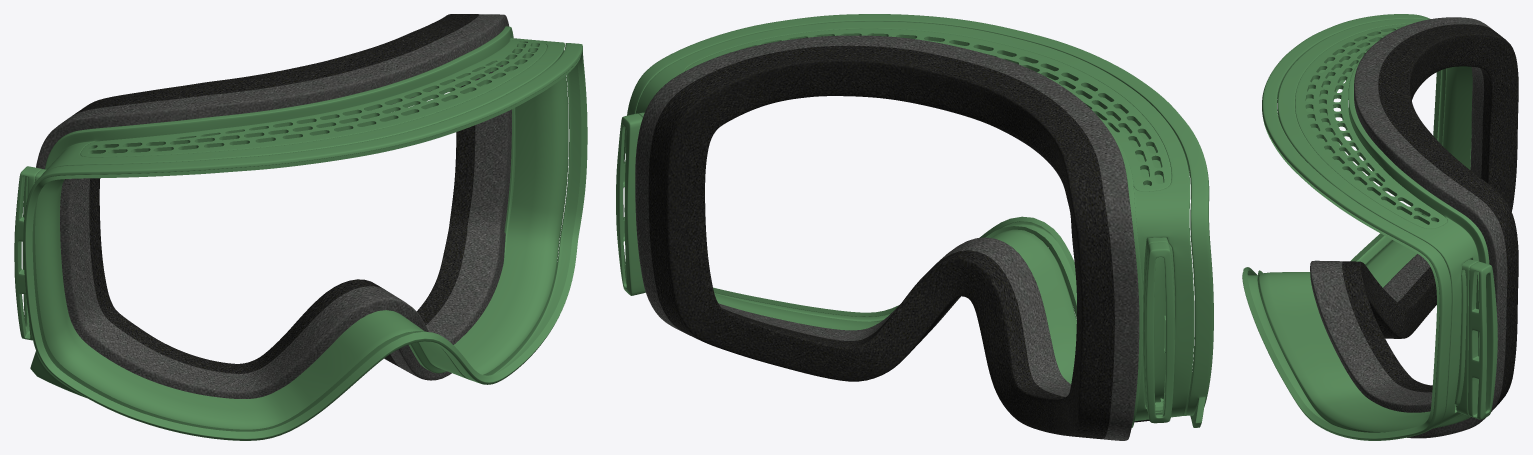
The model's file is FRAME_XPR_MOEX028_002.glb.
3 renders of one model, left to right at view 1: azimuth 30°, elevation 25°; view 2: azimuth 150°, elevation 25°; view 3: azimuth 270°, elevation 25°, orthographic. The views are drawn at different scales.
Parts seen in each view (by area): view 1: Full_rim_geometry, Frame-Add_Frame-02_geometry_geometry, Frame-Add_Frame-01_geometry_geometry, EXTRA_RIM_BEVEL; view 2: Frame-Add_Frame-02_geometry_geometry, Full_rim_geometry, Frame-Add_Frame-01_geometry_geometry, EXTRA_RIM_BEVEL; view 3: Full_rim_geometry, Frame-Add_Frame-02_geometry_geometry, Frame-Add_Frame-01_geometry_geometry, EXTRA_RIM_BEVEL.
Part boxes in pixels (x1,y1,x2,y2): Full_rim_geometry: (14,26,587,440); Frame-Add_Frame-02_geometry_geometry: (36,14,511,398); Frame-Add_Frame-01_geometry_geometry: (80,39,547,157); EXTRA_RIM_BEVEL: (27,55,586,436); Frame-Add_Frame-02_geometry_geometry: (635,35,1149,440); Full_rim_geometry: (616,14,1213,427); Frame-Add_Frame-01_geometry_geometry: (685,28,1171,191); EXTRA_RIM_BEVEL: (713,216,1076,316); Full_rim_geometry: (1242,14,1497,440); Frame-Add_Frame-02_geometry_geometry: (1310,17,1518,438); Frame-Add_Frame-01_geometry_geometry: (1295,23,1447,228); EXTRA_RIM_BEVEL: (1243,70,1441,437).
Bounding box in the file's own units: 0.1788 × 0.0982 × 0.0841.
1 material, 1 textured.
